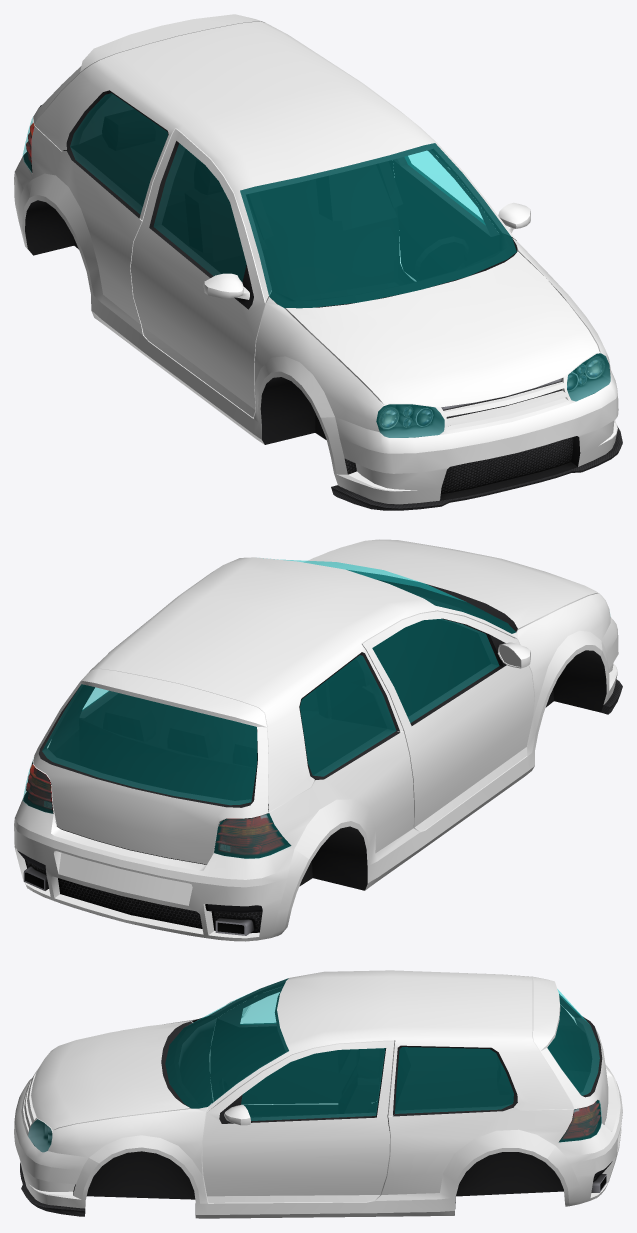
The model's file is VWIV.FBX.
The picture shows the model from 3 angles, top to bottom: view 1: azimuth 30°, elevation 25°; view 2: azimuth 150°, elevation 25°; view 3: azimuth 270°, elevation 25°; orthographic projection. The views are drawn at different scales.
Visible parts, largest first — view 1: Main; view 2: Main; view 3: Main.
Part boxes in pixels (left/top/right/bottom): Main: left=14, top=14, right=622, bottom=510; Main: left=14, top=539, right=622, bottom=941; Main: left=14, top=970, right=622, bottom=1218.
Size of the model in its own units: 1.95 by 1.27 by 4.14.
2 materials, 1 textured.
